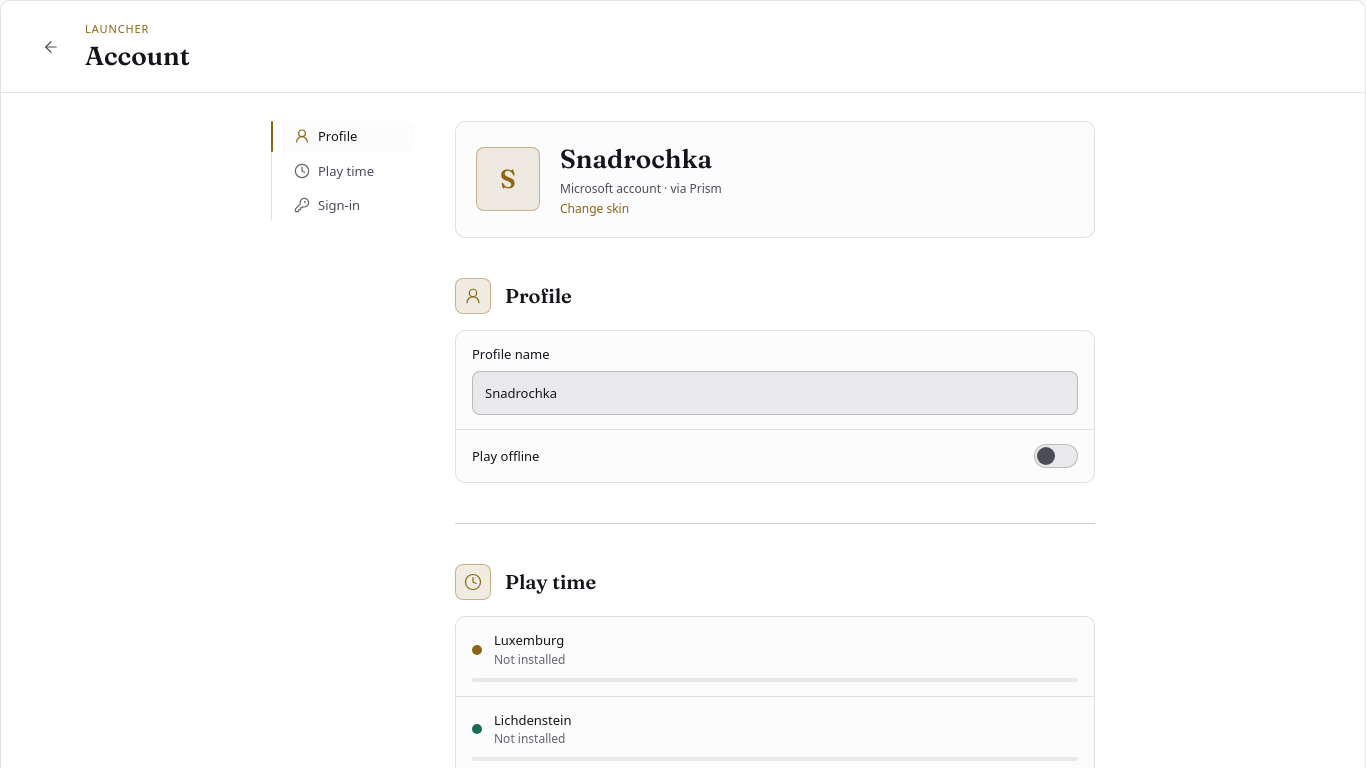
Test: AccountPanel › shows Go's refusal under the switch and puts it back off
Click the switch named "Play offline" at [1056, 456], box [1034,444,1078,468]
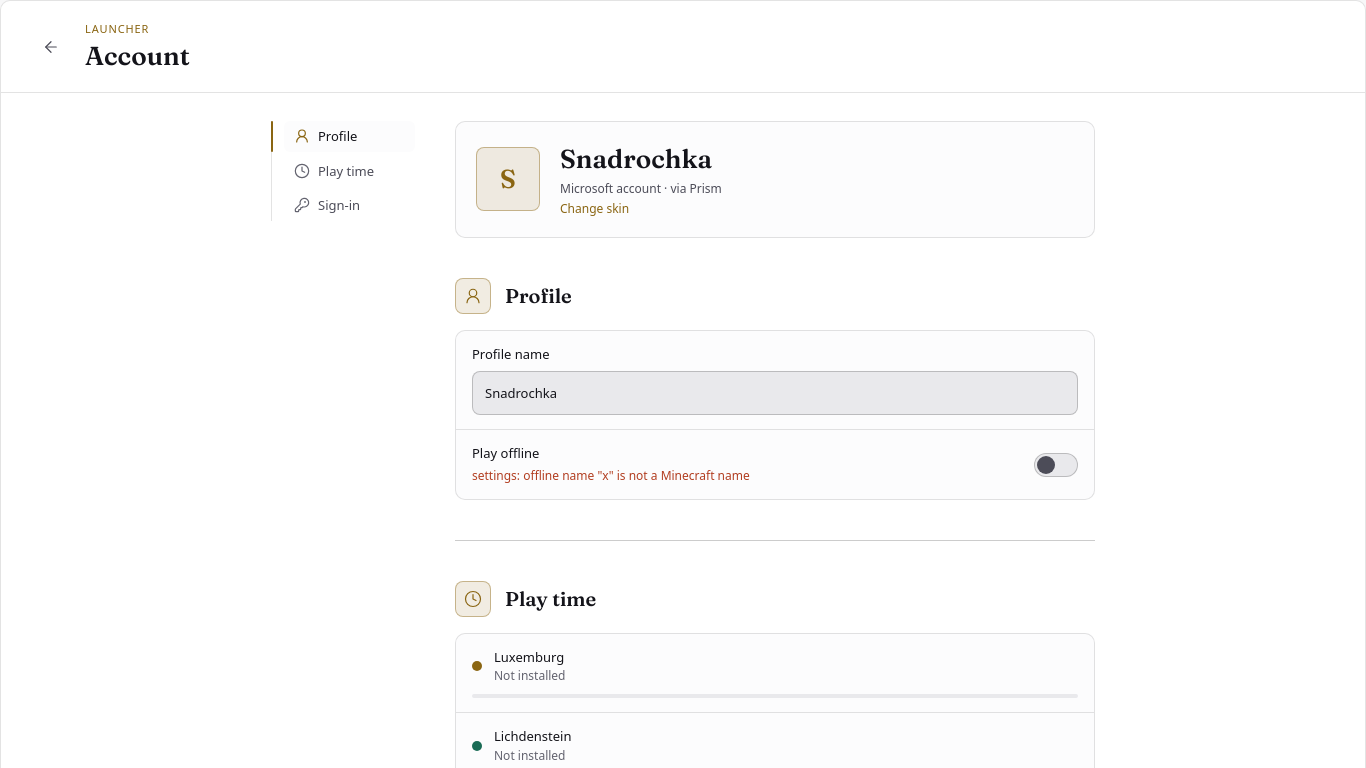
Expected: the switch named "Play offline" is not checked, [1034,452,1078,476]
Expected: the text "settings: offline name \"x\" is not a Minecraft name" is shown, [472,467,750,485]
